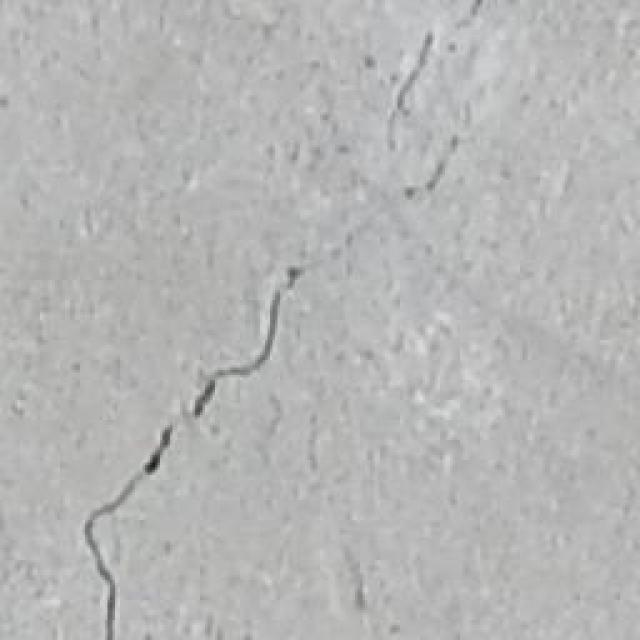concrete-crack: (74, 259, 314, 640), (384, 33, 438, 144)
